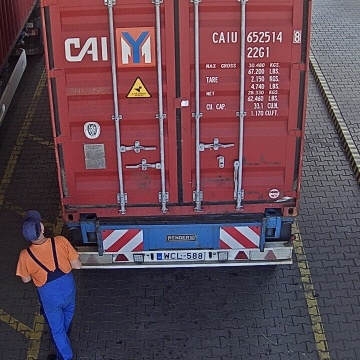serial_id: (212, 30, 301, 42)
